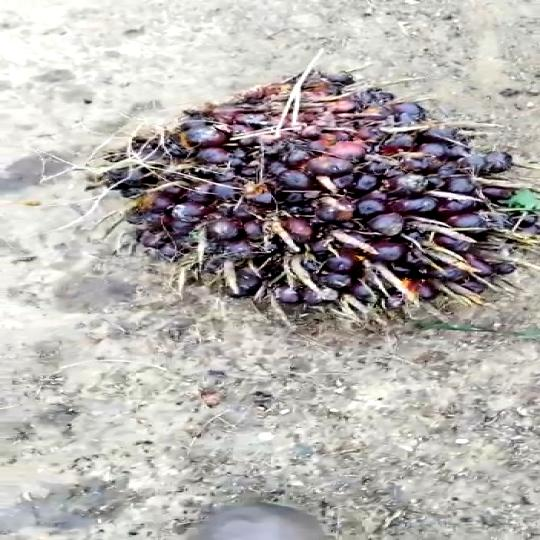kurang masak: (90, 53, 540, 341)
